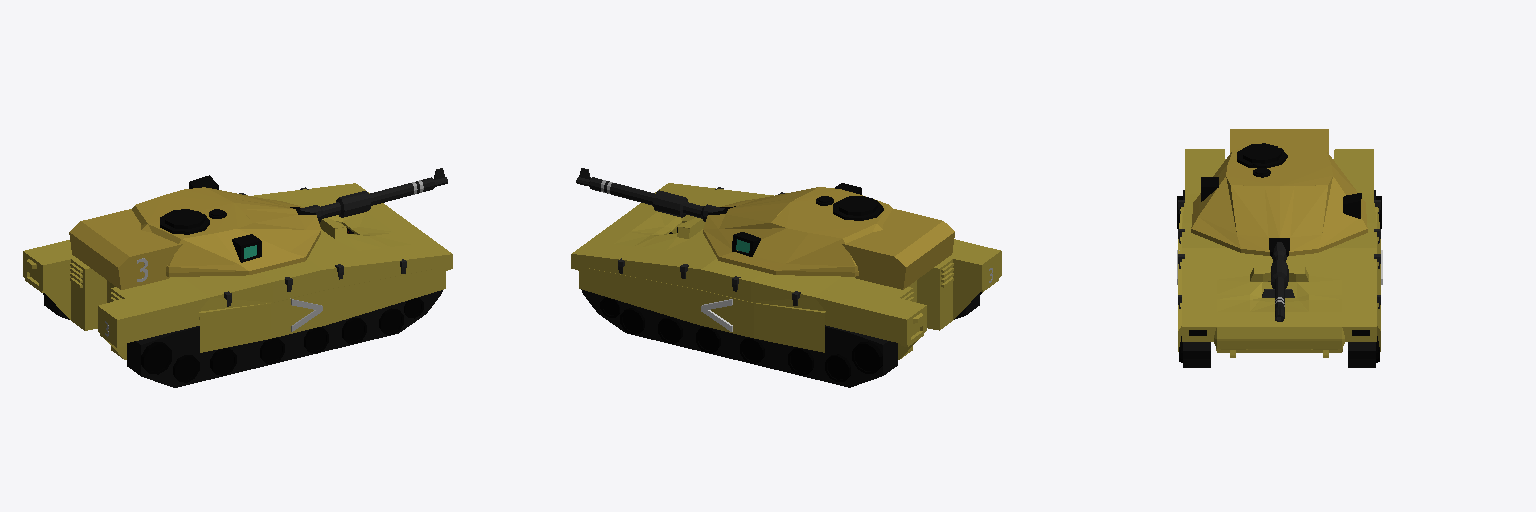
The model's file is MERKAVA_MK4.obj.
The picture shows the model from 3 angles: view 1: azimuth 30°, elevation 25°; view 2: azimuth 150°, elevation 25°; view 3: azimuth 270°, elevation 25°; orthographic projection.
Parts seen in each view (by area): view 1: Cube_Cube.001, Circle_Mesh.005, Cube.001_Mesh.004, Cylinder_Cylinder, Circle.001_Circle.001; view 2: Cube_Cube.001, Circle_Mesh.005, Cube.001_Mesh.004, Cylinder_Cylinder, Circle.001_Circle.001; view 3: Cube_Cube.001, Circle_Mesh.005, Circle.001_Circle.001, Cube.001_Mesh.004, Cylinder_Cylinder.
Part boxes in pixels (x1,y1,x2,y2): Cube_Cube.001: (23,183,452,359); Circle_Mesh.005: (69,187,320,289); Cube.001_Mesh.004: (43,290,442,387); Cylinder_Cylinder: (300,168,447,222); Circle.001_Circle.001: (160,175,261,262); Cube_Cube.001: (571,183,1001,359); Circle_Mesh.005: (703,187,954,289); Cube.001_Mesh.004: (581,289,981,387); Cylinder_Cylinder: (576,168,724,221); Circle.001_Circle.001: (732,183,883,256); Cube_Cube.001: (1178,149,1380,357); Circle_Mesh.005: (1191,129,1367,256); Circle.001_Circle.001: (1201,143,1361,218); Cube.001_Mesh.004: (1177,190,1381,367); Cylinder_Cylinder: (1271,242,1288,321).
Size of the model in its own units: 1008 by 330 by 476.